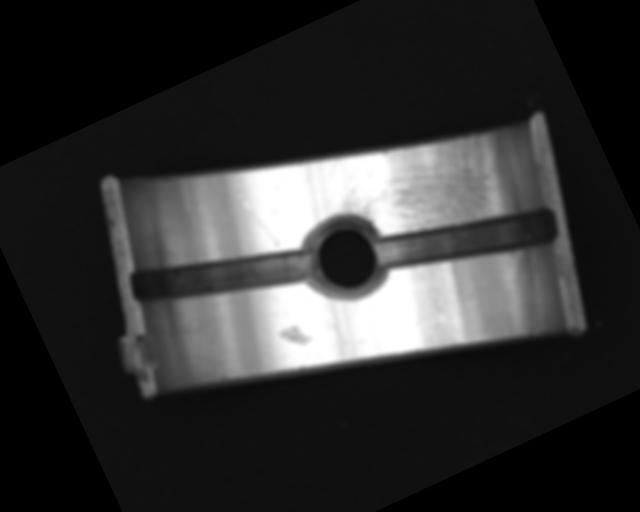bruise: (275, 318, 313, 353)
gap: (126, 204, 318, 349), (371, 171, 564, 312)
hole: (292, 202, 398, 313)
nick: (237, 186, 281, 253)
scratch: (320, 95, 530, 282)
